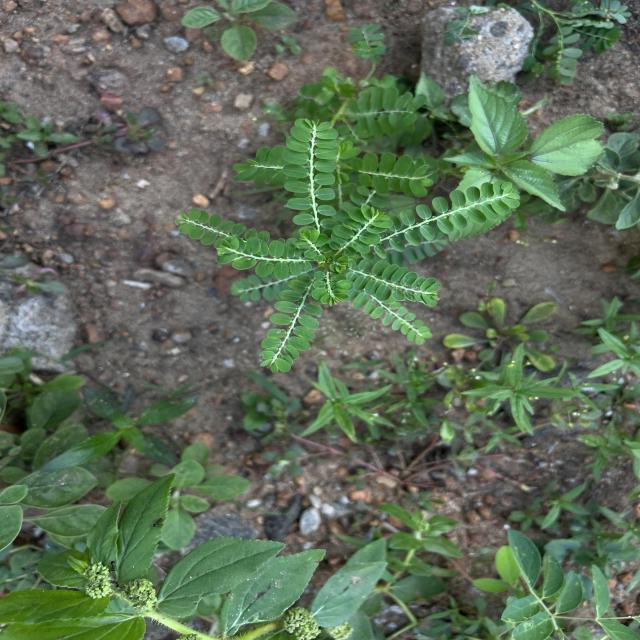Phyllanthus niruri: (372, 177, 524, 255), (280, 113, 342, 232), (258, 277, 324, 375), (344, 290, 436, 348), (348, 256, 444, 308), (211, 233, 317, 278), (330, 204, 394, 254)
